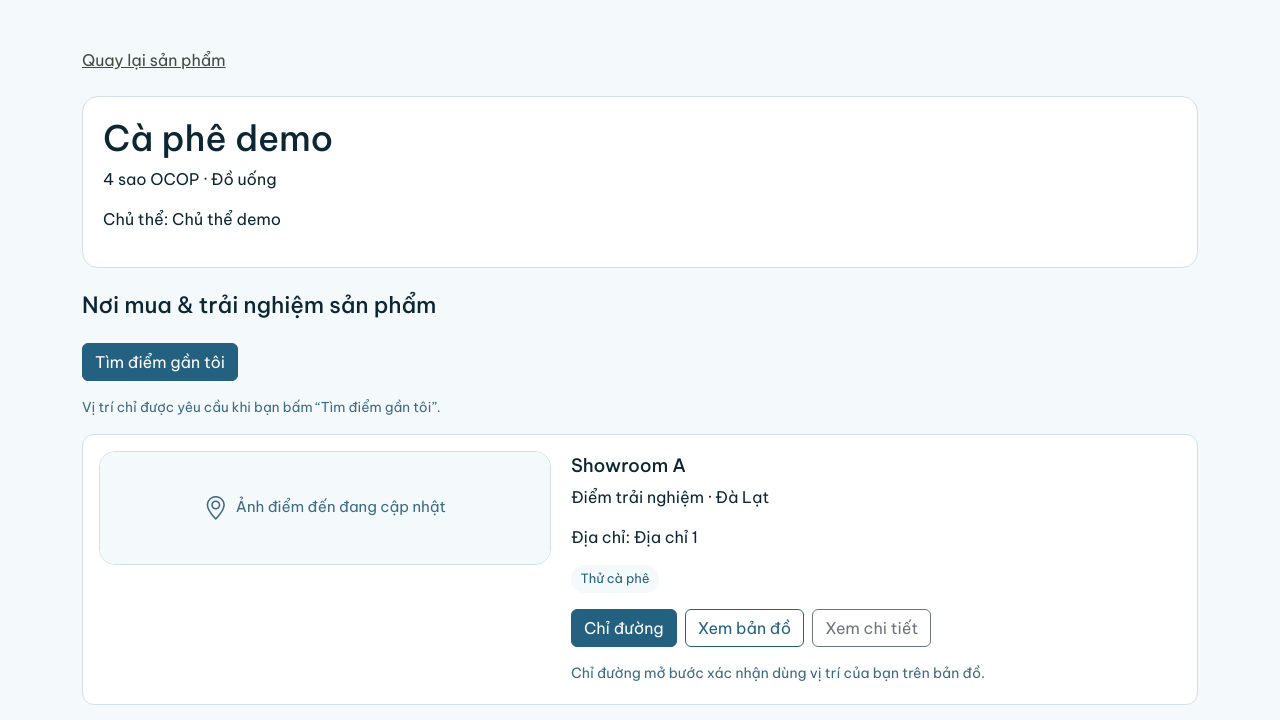
Test: Product Experience Finder › does not request GPS on load; requests only on click and shows loading
Click the button with test id "locate": (160, 362) top-left (82, 343), bottom-right (238, 381)
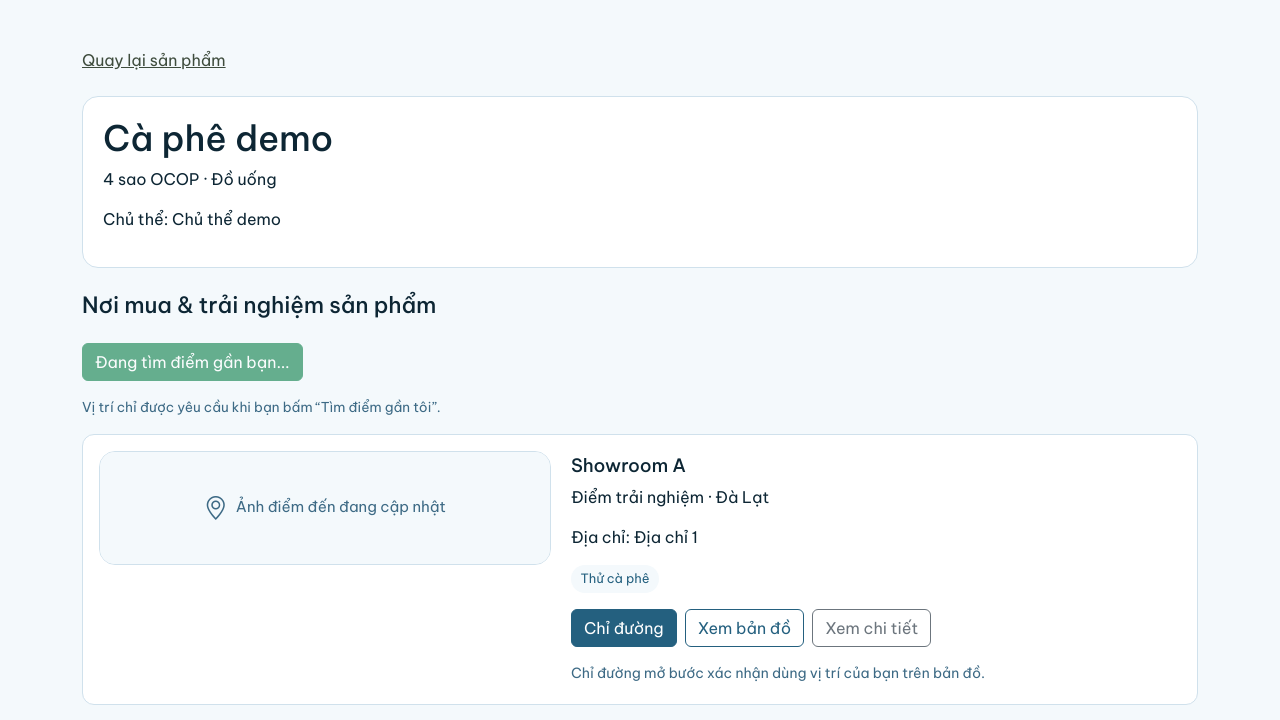
Expected: the button with test id "locate" is disabled, top-left (82, 343), bottom-right (302, 381)
Expected: the text "Đang tìm điểm gần bạn" is shown, top-left (82, 343), bottom-right (302, 381)
